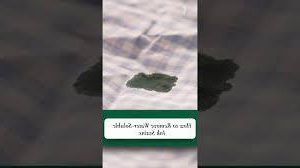ink: (127, 74, 178, 90)
